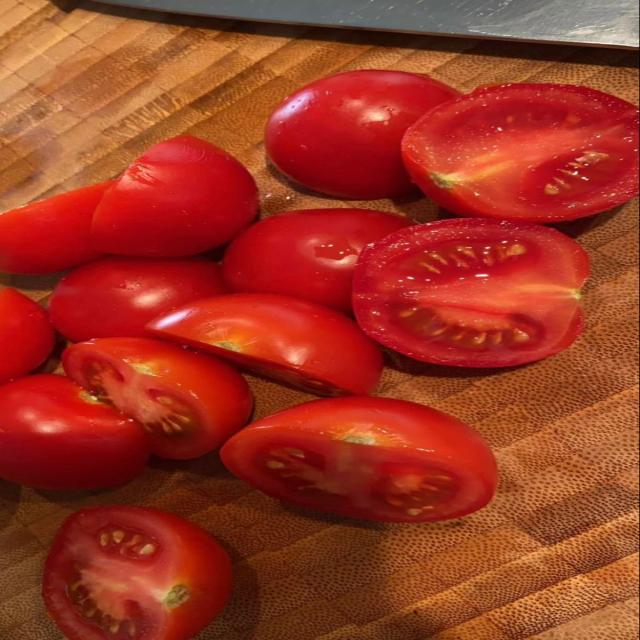sliced tomatoe: (354, 219, 589, 367), (222, 398, 496, 522), (404, 84, 639, 222), (266, 70, 459, 199), (43, 507, 231, 639), (148, 294, 383, 395), (62, 338, 252, 459), (92, 136, 258, 257), (224, 209, 414, 313), (0, 375, 148, 490), (49, 256, 228, 341), (0, 182, 113, 274), (0, 288, 55, 383)
